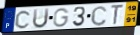3: (72, 6, 87, 28)
C: (90, 5, 108, 27), (14, 10, 32, 30)
G: (53, 8, 71, 28)
T: (110, 4, 125, 26)
U: (32, 7, 51, 30)
